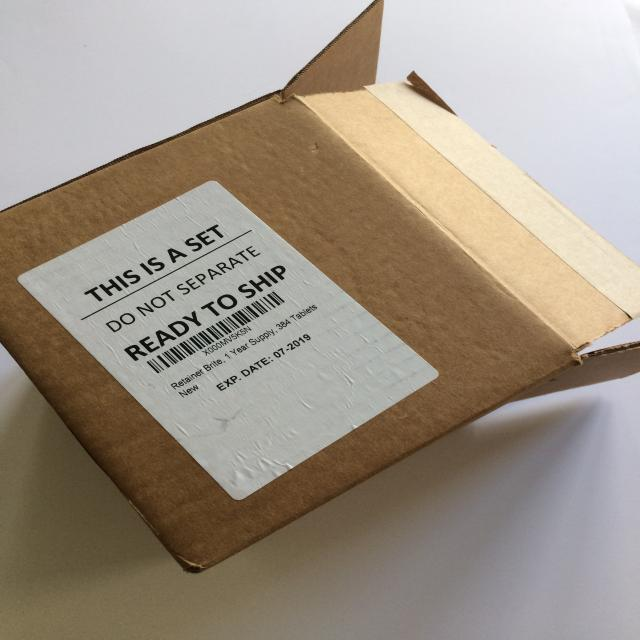cardboard: (1, 1, 640, 589)
